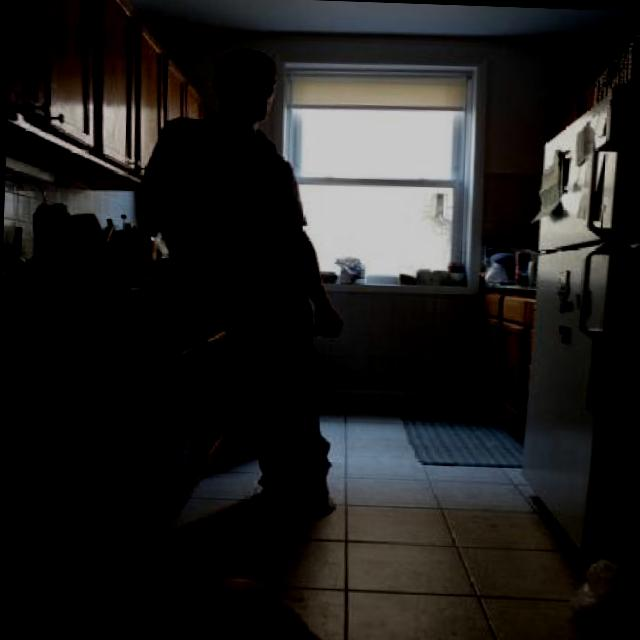Person: (124, 45, 354, 514)
